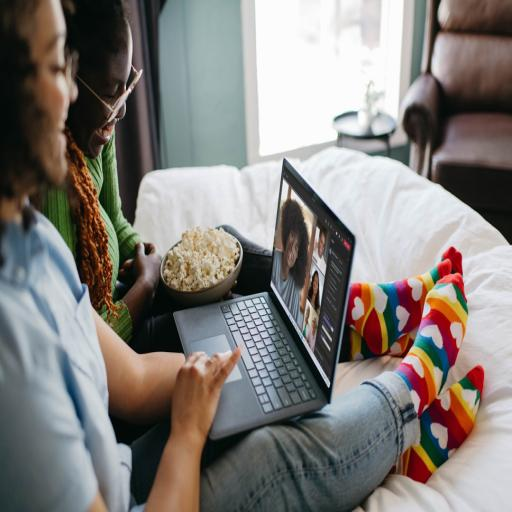face: (27, 0, 75, 184), (69, 28, 132, 158), (285, 232, 299, 269)
